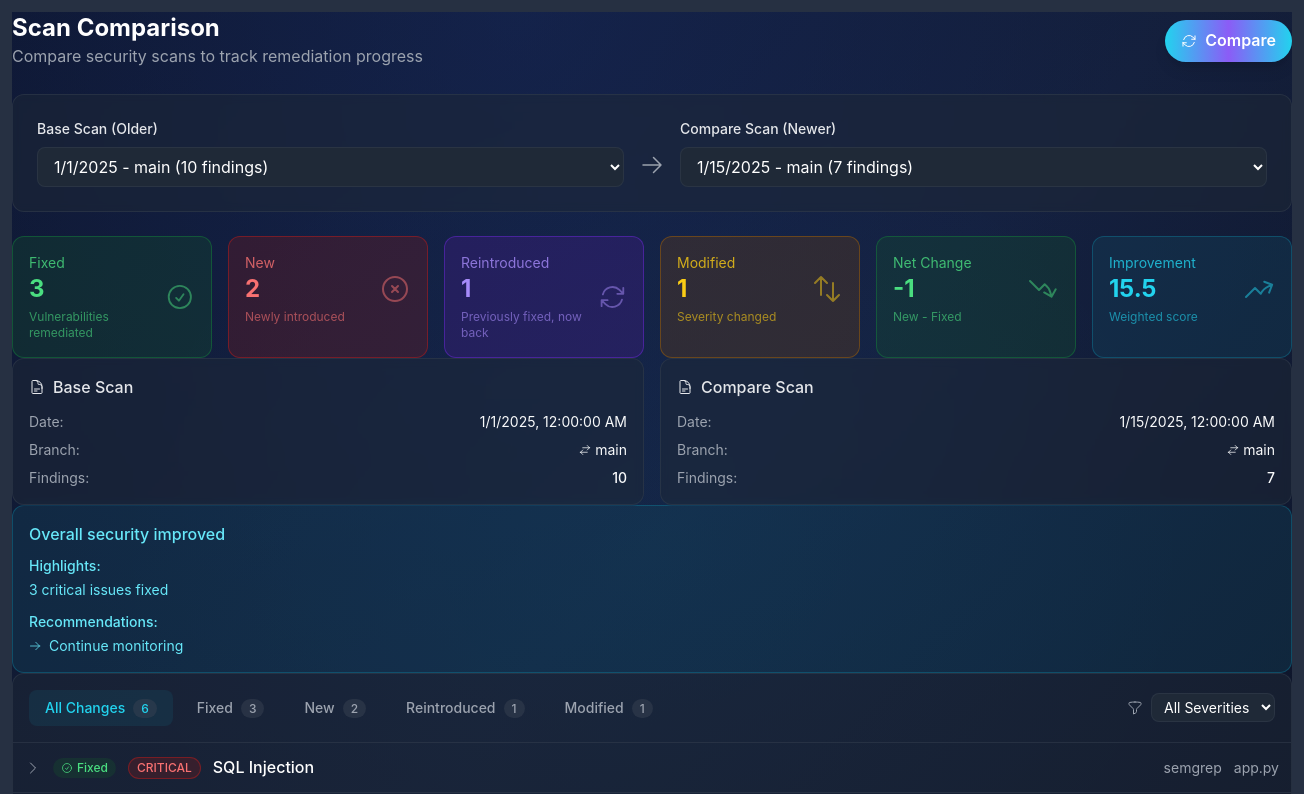
ScanComparison › renders modified findings when Modified tab is active
Click the button "Modified1" at (609, 708), box [548,690,669,726]
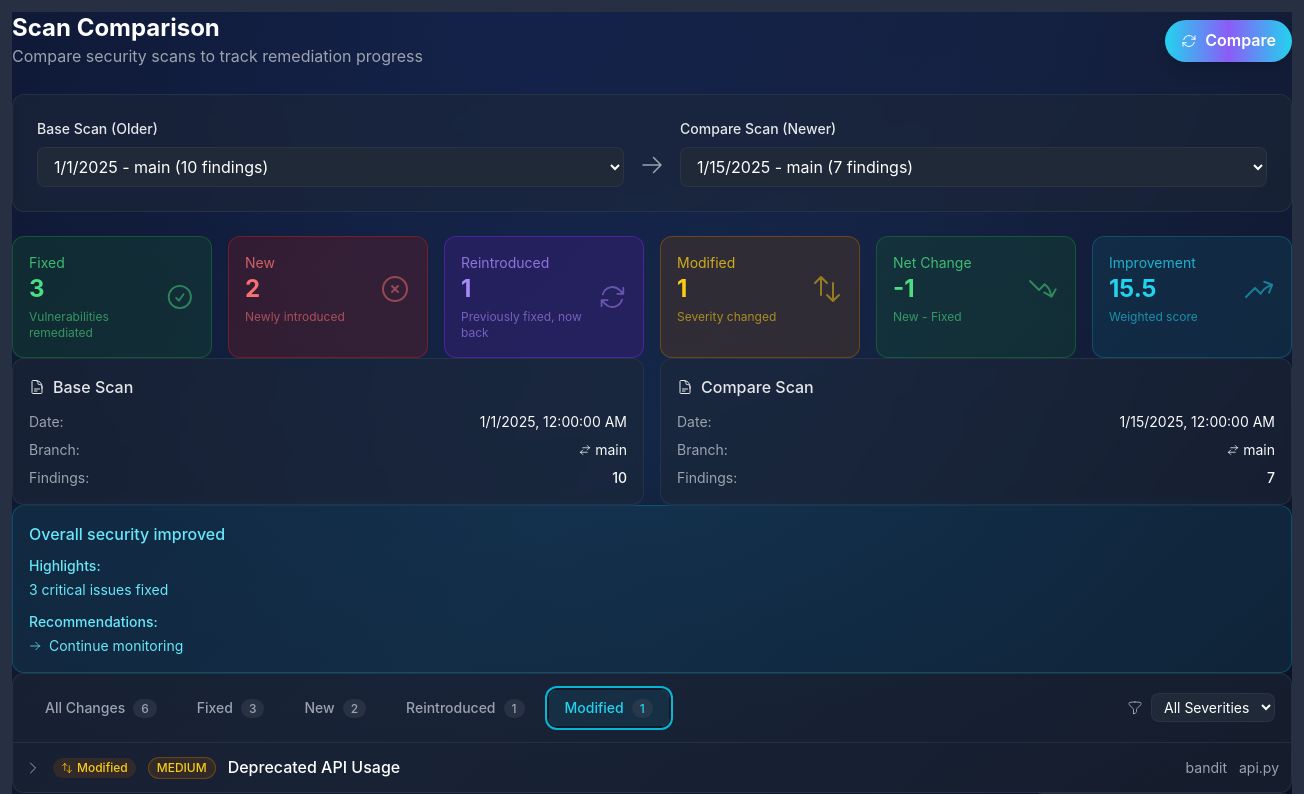
Now the text "Deprecated API Usage" is shown, box [228,755,400,780]
Now the text "SQL Injection" is gone
